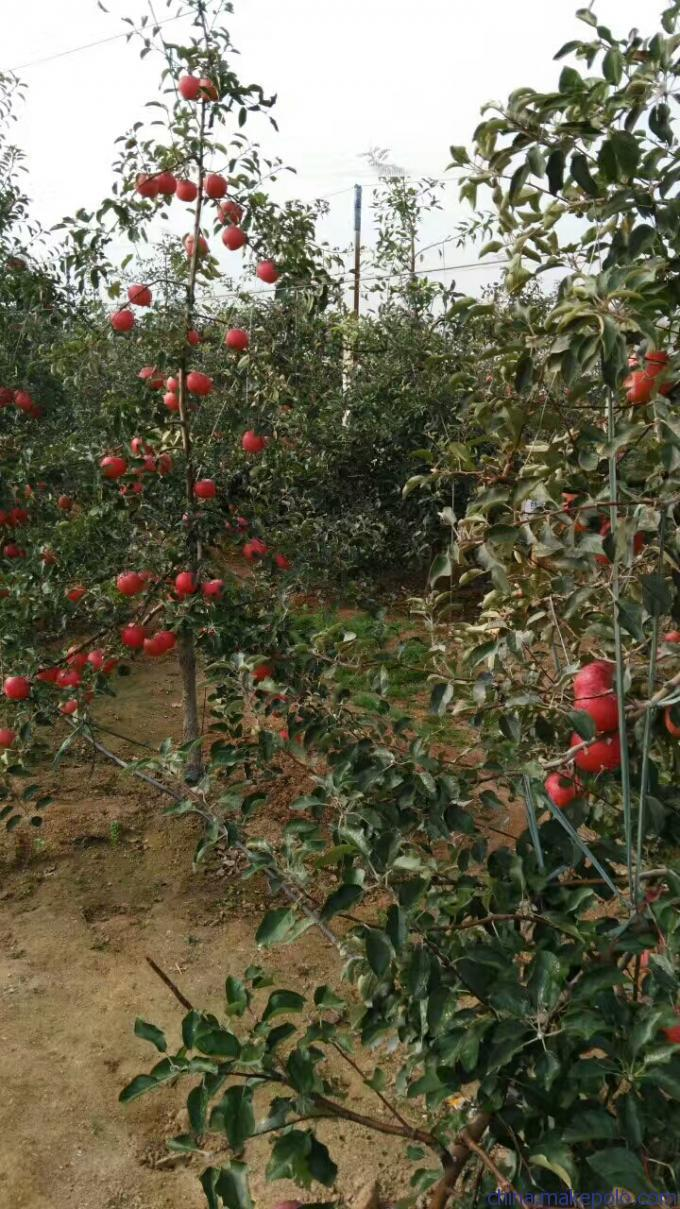apple: (220, 224, 244, 251), (223, 328, 250, 352)
